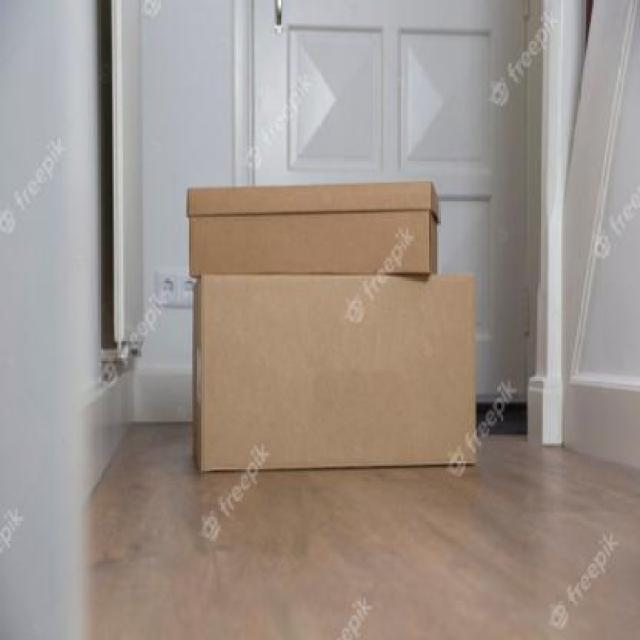box: (190, 268, 481, 471), (185, 185, 443, 280)
